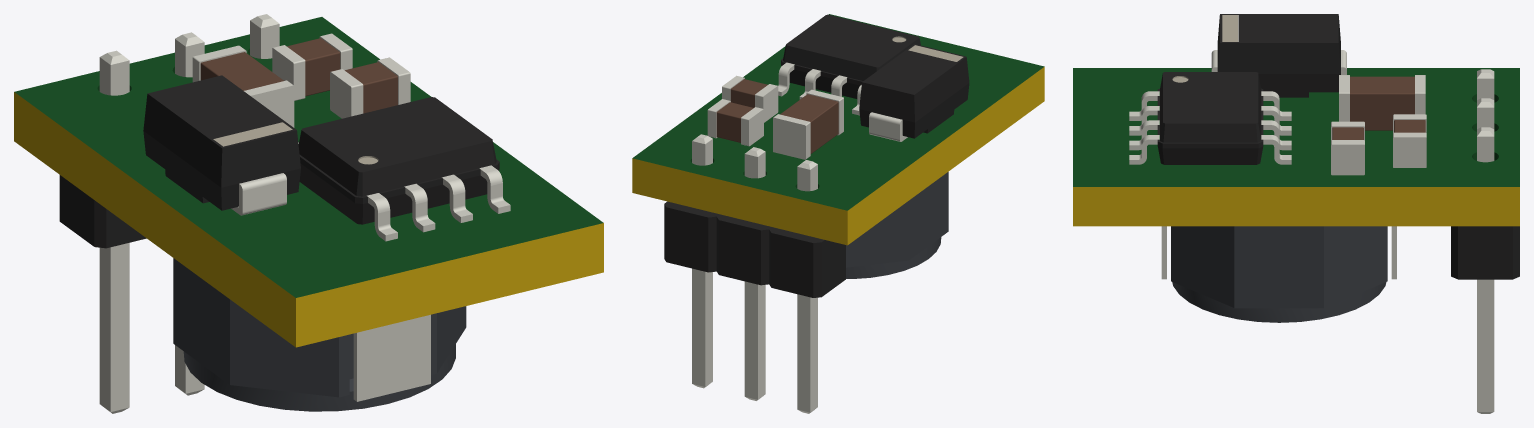
The model's file is kc-converter_dcdc_murata_oki-78sr_horizontal.glb.
The picture shows the model from 3 angles, left to right: view 1: azimuth 30°, elevation 25°; view 2: azimuth 150°, elevation 25°; view 3: azimuth 270°, elevation 25°; orthographic projection. The views are drawn at different scales.
Parts seen in each view (by area): view 1: 0_0.08333333333333333_0_0, 0_0_0_0, 0.6666666666666666_0.4166666666666667_0_0, 0.6666666666666666_0.6666666666666666_0.5833333333333334_0.8, 0.08333333333333333_0.08333333333333333_0.08333333333333333_, 0.08333333333333333_0.08333333333333333_0_0, 0.4166666666666667_0.4166666666666667_0.3333333333333333_0; view 2: 0_0_0_0, 0_0.08333333333333333_0_0, 0.6666666666666666_0.6666666666666666_0.5833333333333334_0.8, 0.6666666666666666_0.4166666666666667_0_0, 0.08333333333333333_0.08333333333333333_0.08333333333333333_, 0.08333333333333333_0.08333333333333333_0_0, 0.4166666666666667_0.4166666666666667_0.3333333333333333_0; view 3: 0_0.08333333333333333_0_0, 0_0_0_0, 0.08333333333333333_0.08333333333333333_0.08333333333333333_, 0.6666666666666666_0.4166666666666667_0_0, 0.6666666666666666_0.6666666666666666_0.5833333333333334_0.8, 0.08333333333333333_0.08333333333333333_0_0, 0.4166666666666667_0.4166666666666667_0.3333333333333333_0.
Boxes of the visible parts, left/top/right/bottom form: 0_0.08333333333333333_0_0: left=14, top=17, right=603, bottom=297; 0_0_0_0: left=59, top=75, right=499, bottom=248; 0.6666666666666666_0.4166666666666667_0_0: left=14, top=92, right=603, bottom=347; 0.6666666666666666_0.6666666666666666_0.5833333333333334_0.8: left=99, top=14, right=510, bottom=413; 0.08333333333333333_0.08333333333333333_0.08333333333333333_: left=173, top=258, right=466, bottom=411; 0.08333333333333333_0.08333333333333333_0_0: left=200, top=38, right=397, bottom=113; 0.4166666666666667_0.4166666666666667_0.3333333333333333_0: left=213, top=122, right=378, bottom=164; 0_0_0_0: left=664, top=14, right=969, bottom=297; 0_0.08333333333333333_0_0: left=632, top=14, right=1044, bottom=210; 0.6666666666666666_0.6666666666666666_0.5833333333333334_0.8: left=692, top=62, right=907, bottom=413; 0.6666666666666666_0.4166666666666667_0_0: left=632, top=67, right=1044, bottom=245; 0.08333333333333333_0.08333333333333333_0.08333333333333333_: left=846, top=172, right=948, bottom=278; 0.08333333333333333_0.08333333333333333_0_0: left=716, top=79, right=838, bottom=153; 0.4166666666666667_0.4166666666666667_0.3333333333333333_0: left=892, top=36, right=963, bottom=61; 0_0.08333333333333333_0_0: left=1073, top=68, right=1519, bottom=186; 0_0_0_0: left=1157, top=14, right=1519, bottom=279; 0.08333333333333333_0.08333333333333333_0.08333333333333333_: left=1171, top=226, right=1387, bottom=322; 0.6666666666666666_0.4166666666666667_0_0: left=1073, top=187, right=1519, bottom=226; 0.6666666666666666_0.6666666666666666_0.5833333333333334_0.8: left=1129, top=50, right=1494, bottom=413; 0.08333333333333333_0.08333333333333333_0_0: left=1332, top=76, right=1425, bottom=139; 0.4166666666666667_0.4166666666666667_0.3333333333333333_0: left=1172, top=15, right=1238, bottom=82.
Size of the model in its own units: 1.04 by 1.29 by 1.65.
